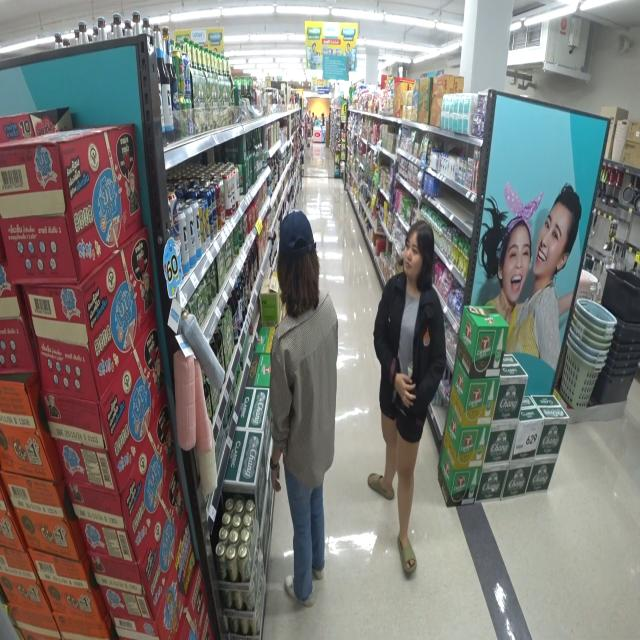shoplifting: (379, 215, 448, 583)
